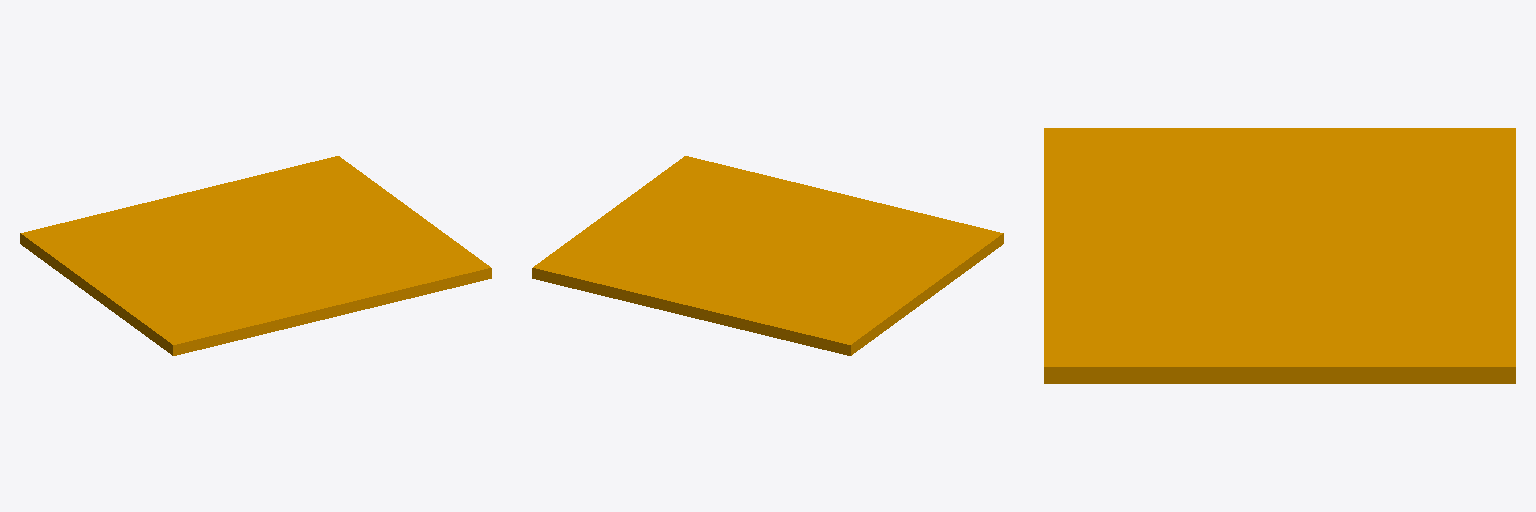
The robot description file, URDF, robot "mesa_trabajo":
<?xml version="1.0"?>
<!-- Componente "mesa_trabajo" de la biblioteca del contrato 2.0. Origen = centro geométrico. -->
<robot name="mesa_trabajo">
  <link name="mesa_trabajo">
    <visual><geometry><box size="1.2 1 0.04"/></geometry></visual>
    <collision><geometry><box size="1.2 1 0.04"/></geometry></collision>
  </link>
</robot>

--- Facts derived from the render (not from the file) ---
Views: 3 orthographic renders of the robot side by side, from view 1: azimuth 30°, elevation 25°; view 2: azimuth 150°, elevation 25°; view 3: azimuth 270°, elevation 25°.
Robot: mesa_trabajo — 1 links, 0 joints (none); root link mesa_trabajo; default pose: every joint at zero.
Links seen in each view (by area): view 1: mesa_trabajo; view 2: mesa_trabajo; view 3: mesa_trabajo.
Boxes of the visible links, x1,y1,x2,y2 form: mesa_trabajo: [20, 156, 491, 355]; mesa_trabajo: [532, 156, 1003, 355]; mesa_trabajo: [1044, 128, 1515, 383].
Bounding box of the posed robot: 1.2 × 1 × 0.04 m (x, y, z).
Geometry: primitives only (box / cylinder / sphere), no mesh files.
